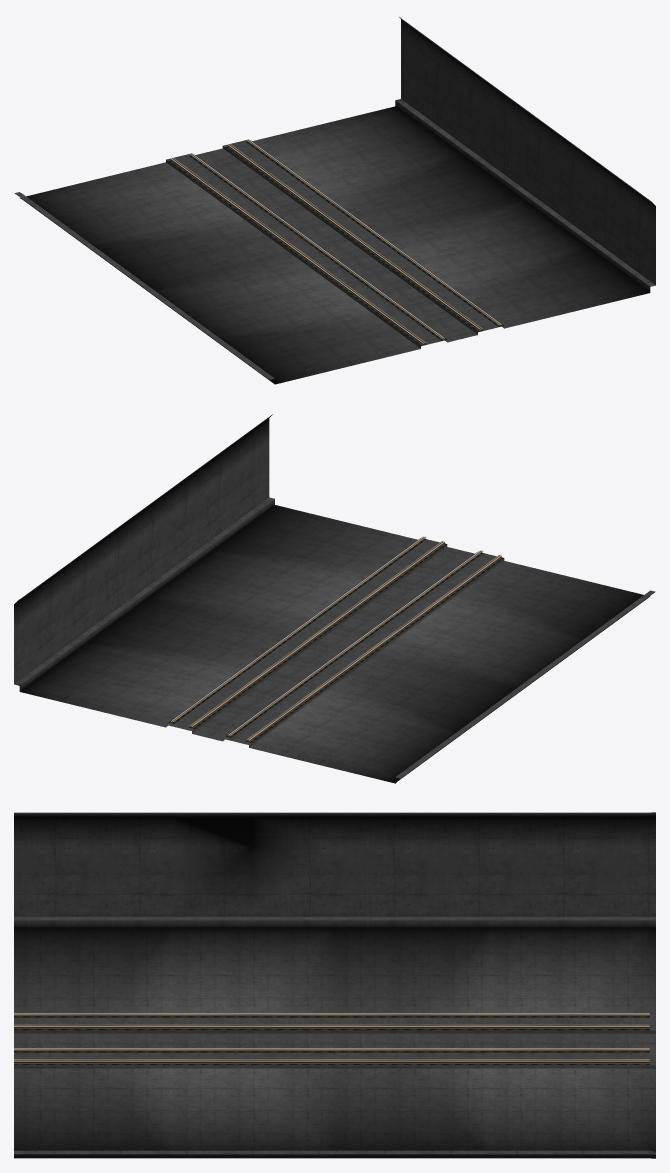
Rendered from KIN_2RAIL_CHIKA100_03.glb.
3 renders of one model, top to bottom at view 1: azimuth 30°, elevation 25°; view 2: azimuth 150°, elevation 25°; view 3: azimuth 270°, elevation 25°, orthographic. The views are drawn at different scales.
Parts seen in each view (by area): view 1: obj1, Mesh2, Mesh1; view 2: obj1, Mesh2, Mesh1; view 3: obj1, Mesh1, Mesh2.
Part boxes in pixels (x1,y1,x2,y2): obj1: [14, 17, 655, 384]; Mesh2: [172, 144, 482, 343]; Mesh1: [189, 140, 499, 338]; obj1: [14, 414, 655, 783]; Mesh2: [190, 541, 500, 740]; Mesh1: [172, 536, 482, 736]; obj1: [14, 812, 655, 1158]; Mesh1: [14, 1024, 649, 1060]; Mesh2: [14, 1014, 649, 1050].
Bounding box in the file's own units: 88.4 × 20 × 101.
Materials: 7 (6 with a texture image).
